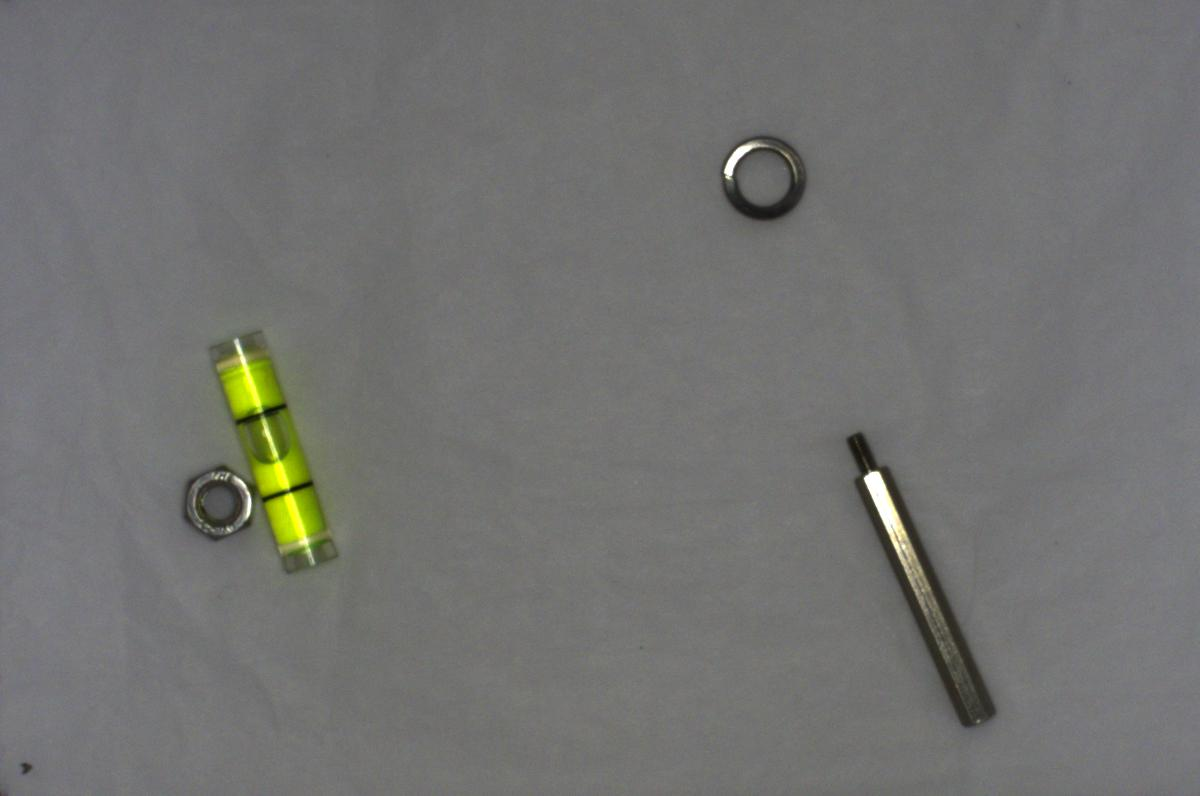Hexagon nut: (168, 463, 266, 542)
Hexagonal steel column: (839, 422, 1004, 730)
Horizontal bubble: (206, 320, 340, 574)
Spring washer: (713, 126, 815, 230)
